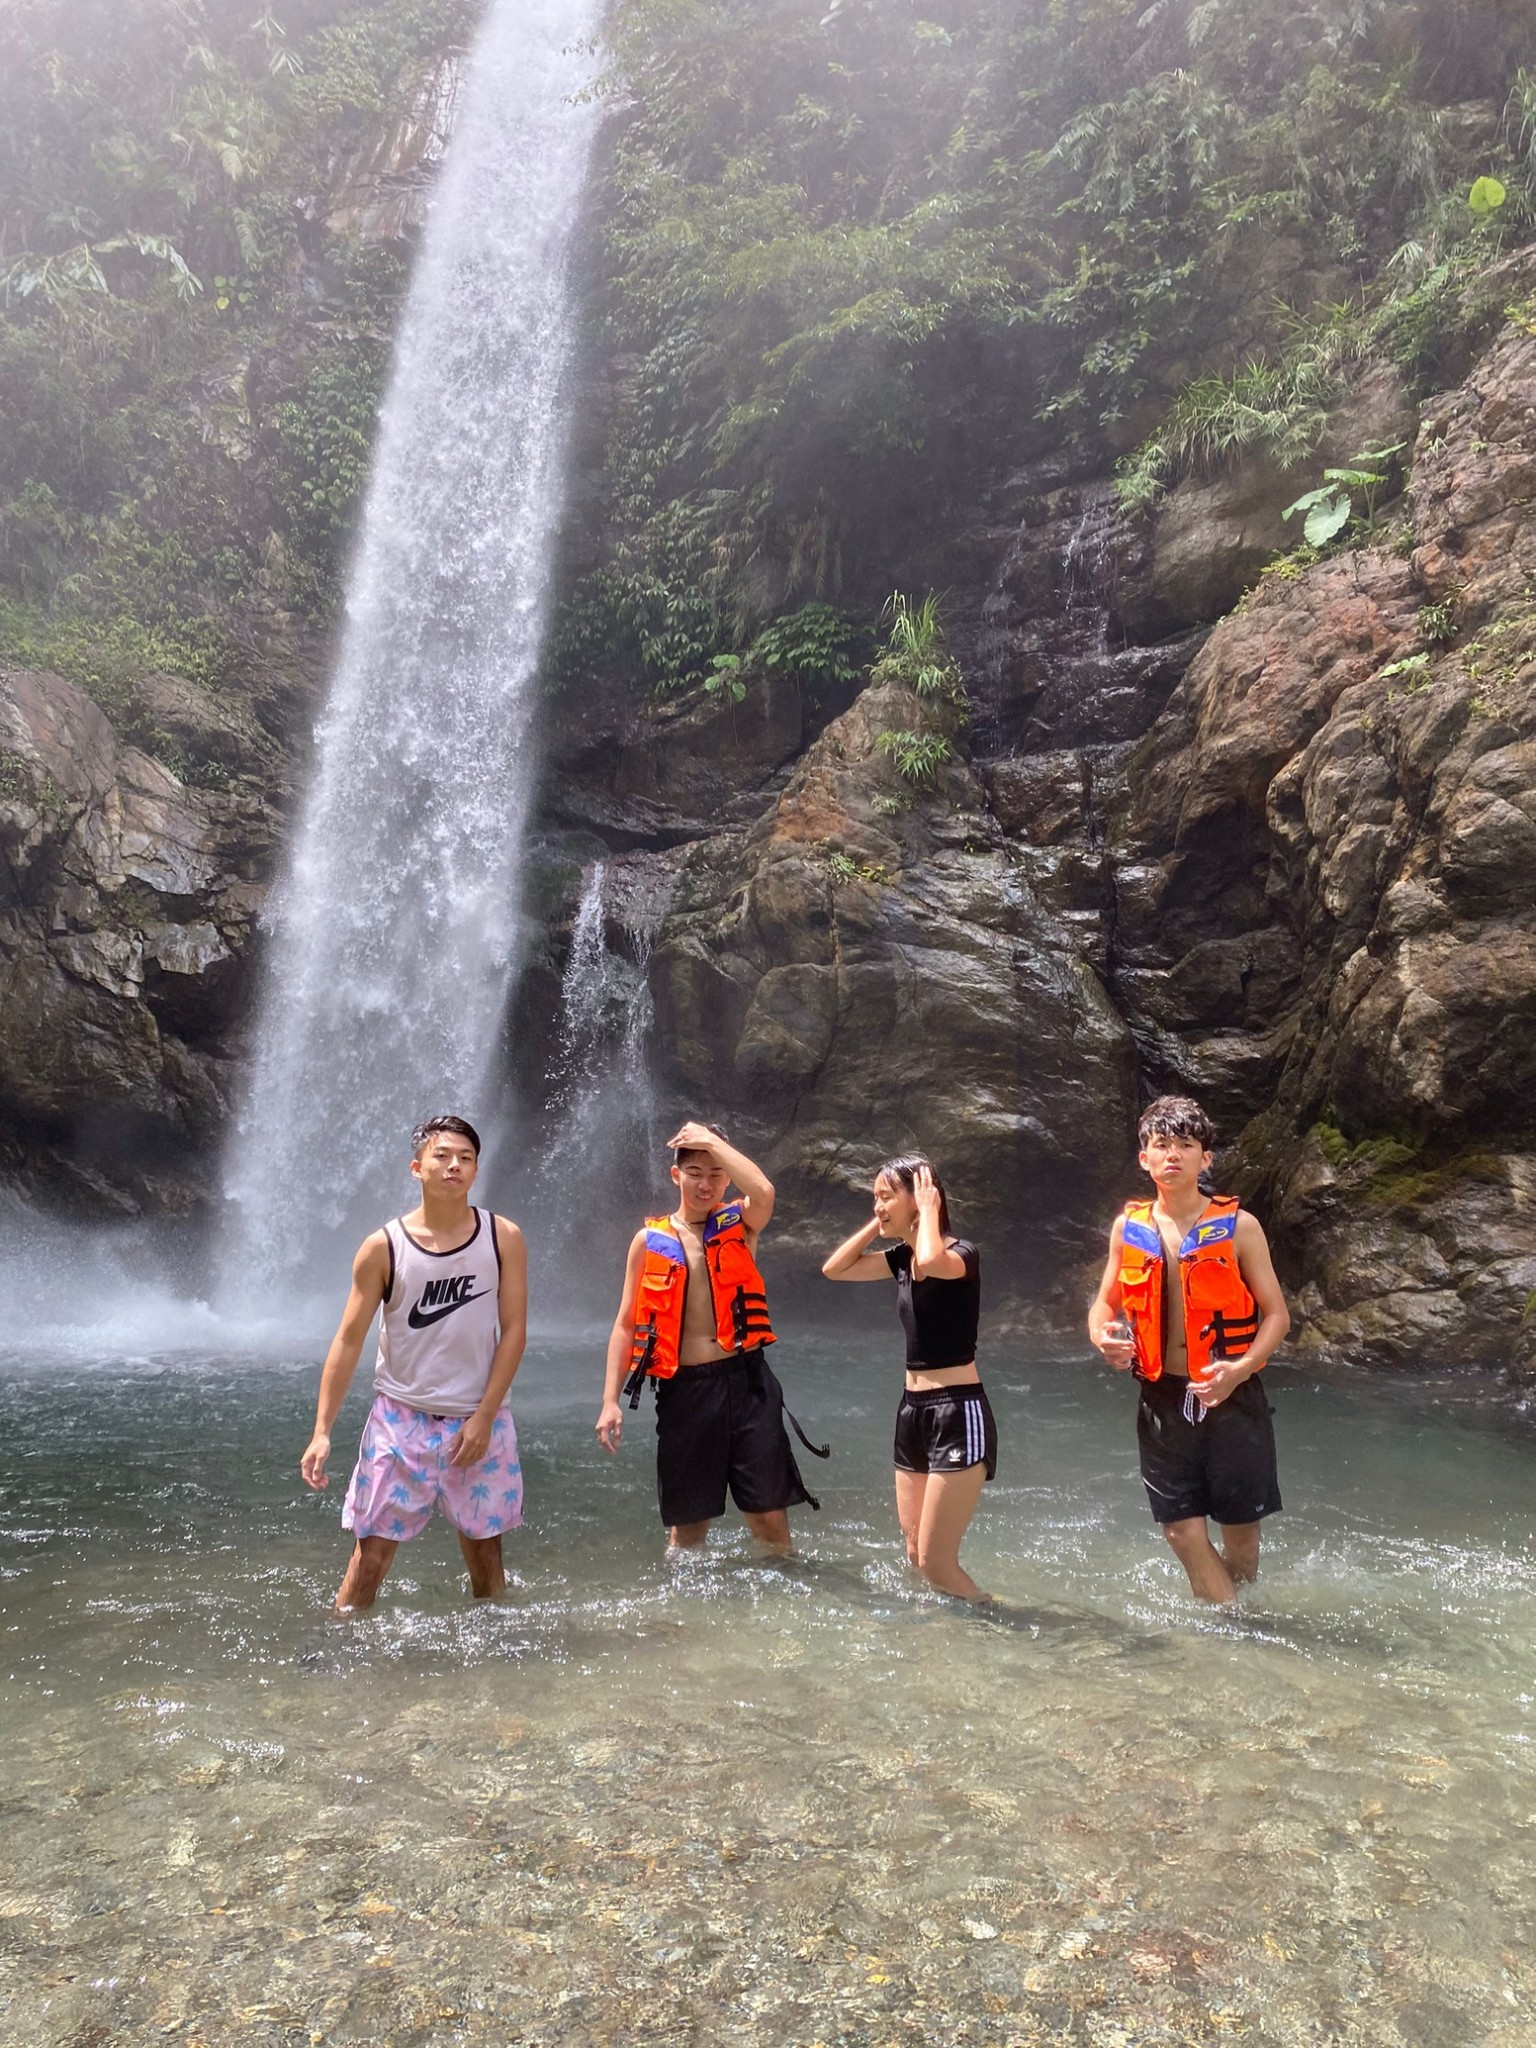people: (1124, 1096, 1292, 1618), (853, 1154, 1011, 1612), (650, 1134, 802, 1599), (379, 1118, 515, 1602)
